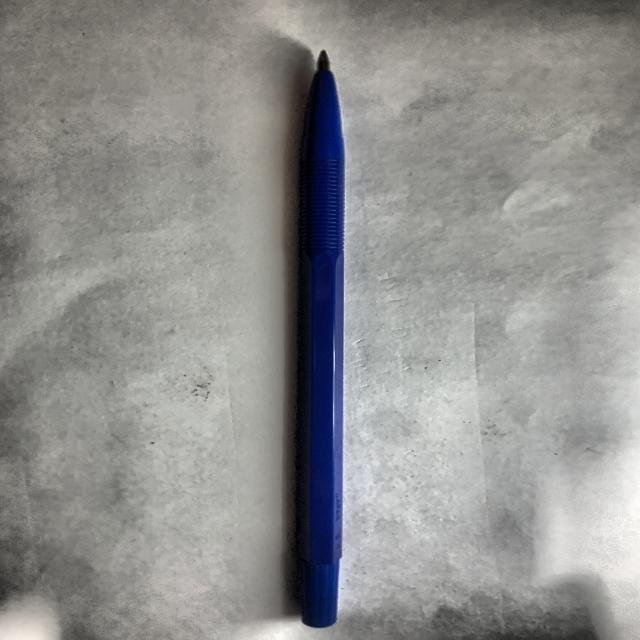Pulpen: (267, 43, 369, 638)
